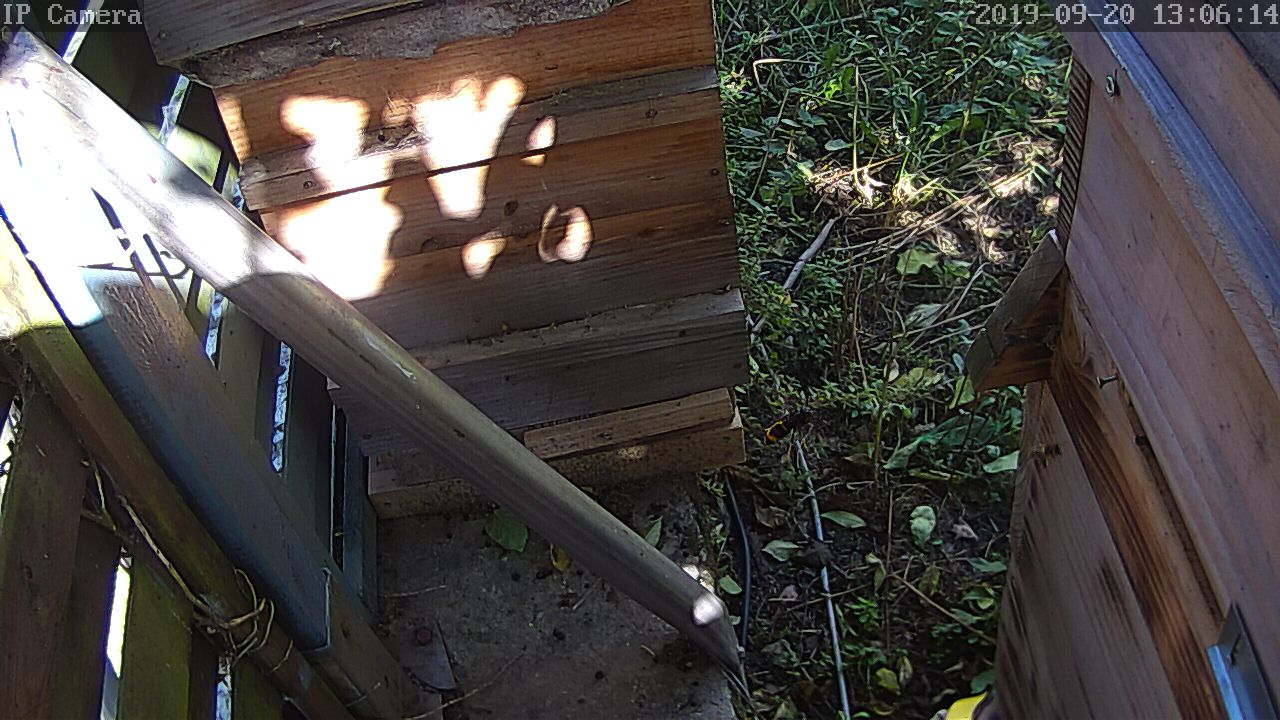bee: (1025, 439, 1065, 470)
hornet: (762, 403, 817, 444)
